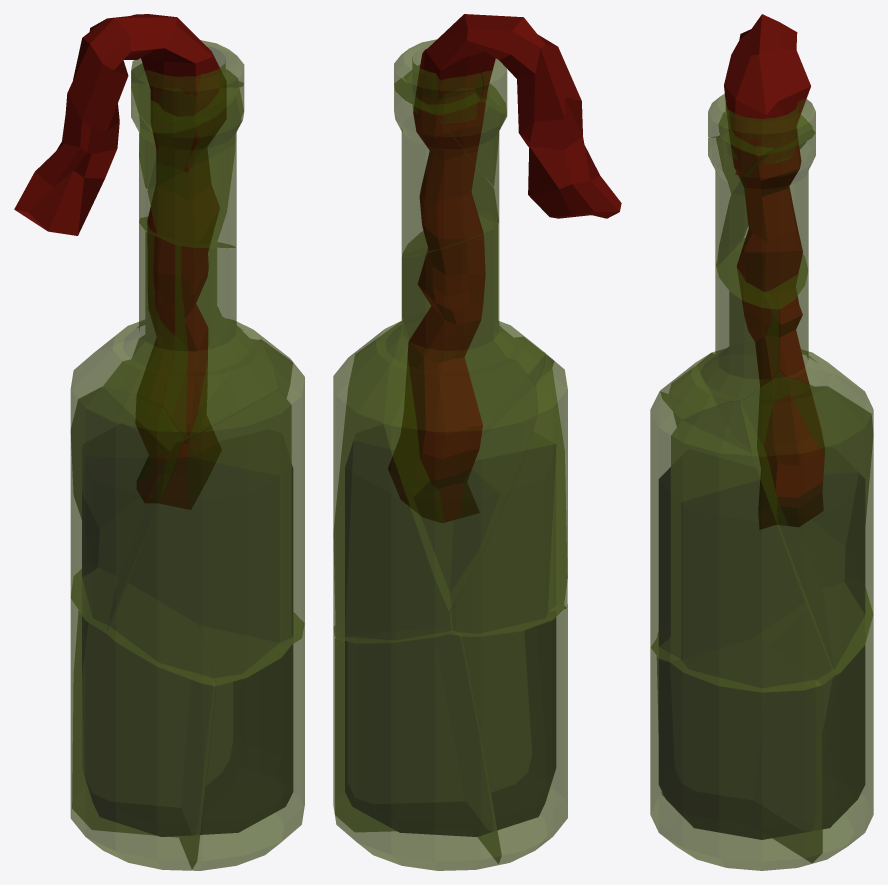
File: molly flasche kaputt flüssigkeit muss raus.fbx
3 views of the same model, side by side, from view 1: azimuth 30°, elevation 25°; view 2: azimuth 150°, elevation 25°; view 3: azimuth 270°, elevation 25° (orthographic). The views are drawn at different scales.
Visible parts, largest first — view 1: flüssigkeit, band, flasche_cell.013, flasche_cell.003, flasche_cell.012, flasche_cell.011, flasche_cell.010, flasche_cell.009, flasche_cell.006, flasche_cell.001, flasche_cell.007, flasche_cell.005 (+5 smaller); view 2: flüssigkeit, band, flasche_cell.001, flasche_cell.002, flasche_cell.004, flasche_cell.011, flasche_cell.003, flasche_cell.008, flasche_cell.007, flasche_cell.009, flasche_cell.010, flasche_cell (+5 smaller); view 3: flüssigkeit, flasche_cell.009, flasche_cell.012, band, flasche_cell.004, flasche_cell.008, flasche_cell.010, flasche_cell.002, flasche_cell.013, flasche_cell.001, flasche_cell.007, flasche_cell (+4 smaller).
Boxes of the visible parts, x1,y1,x2,y2 form: flüssigkeit: (82, 456, 293, 836); band: (14, 14, 225, 509); flasche_cell.013: (107, 390, 291, 685); flasche_cell.003: (70, 569, 215, 870); flasche_cell.012: (179, 612, 304, 870); flasche_cell.011: (70, 386, 184, 632); flasche_cell.010: (163, 242, 278, 440); flasche_cell.009: (197, 339, 304, 644); flasche_cell.006: (147, 97, 241, 247); flasche_cell.001: (70, 217, 216, 518); flasche_cell.007: (103, 231, 186, 450); flasche_cell.005: (131, 63, 238, 132); flüssigkeit: (345, 440, 556, 836); band: (388, 14, 621, 521); flasche_cell.001: (384, 230, 537, 610); flasche_cell.002: (335, 633, 501, 870); flasche_cell.004: (333, 320, 451, 643); flasche_cell.011: (449, 355, 567, 636); flasche_cell.003: (462, 606, 567, 864); flasche_cell.008: (394, 78, 498, 256); flasche_cell.007: (465, 221, 545, 436); flasche_cell.009: (333, 321, 401, 636); flasche_cell.010: (402, 215, 553, 377); flasche_cell: (394, 39, 483, 114); flüssigkeit: (658, 467, 865, 839); flasche_cell.009: (671, 401, 834, 692); flasche_cell.012: (650, 639, 822, 870); band: (724, 14, 824, 529); flasche_cell.004: (740, 370, 873, 675); flasche_cell.008: (716, 130, 815, 309); flasche_cell.010: (660, 250, 779, 452); flasche_cell.002: (773, 588, 873, 863); flasche_cell.013: (650, 391, 755, 661); flasche_cell.001: (779, 255, 873, 521); flasche_cell.007: (697, 238, 759, 405); flasche_cell: (718, 99, 815, 155).
Bounding box in the file's own units: 88.26 × 256 × 66.
